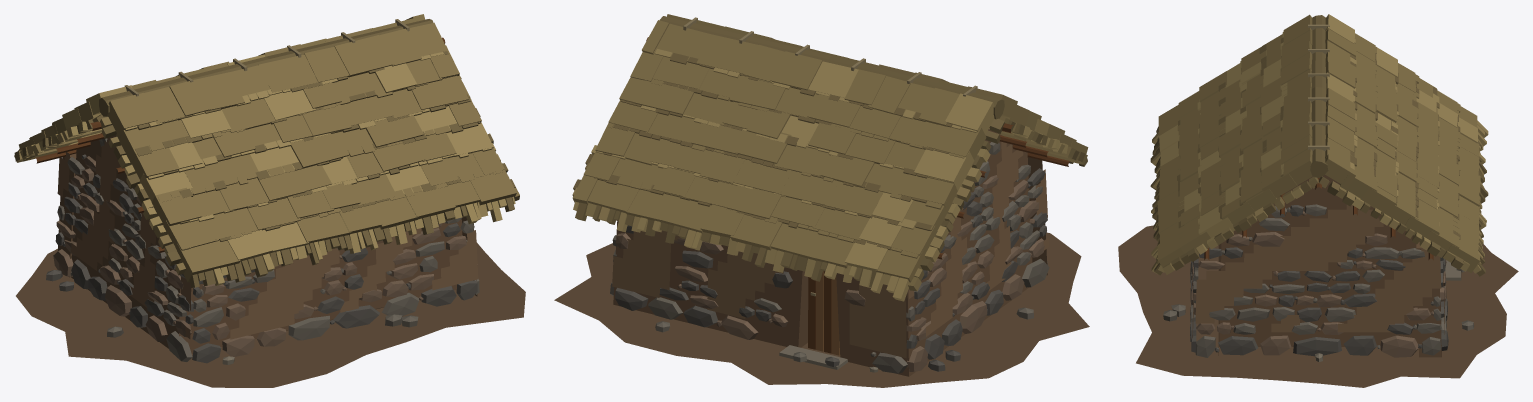
The model's file is pch_house_b.glb.
3 views of the same model, side by side, from view 1: azimuth 30°, elevation 25°; view 2: azimuth 150°, elevation 25°; view 3: azimuth 270°, elevation 25° (orthographic). The views are drawn at different scales.
Parts seen in each view (by area): view 1: pch_house_b; view 2: pch_house_b; view 3: pch_house_b.
Part boxes in pixels (x1,y1,x2,y2): pch_house_b: [14, 14, 525, 387]; pch_house_b: [554, 14, 1089, 387]; pch_house_b: [1118, 14, 1518, 387].
Size of what is drawn, in the model's own units: 8.54 by 4.25 by 7.4.
